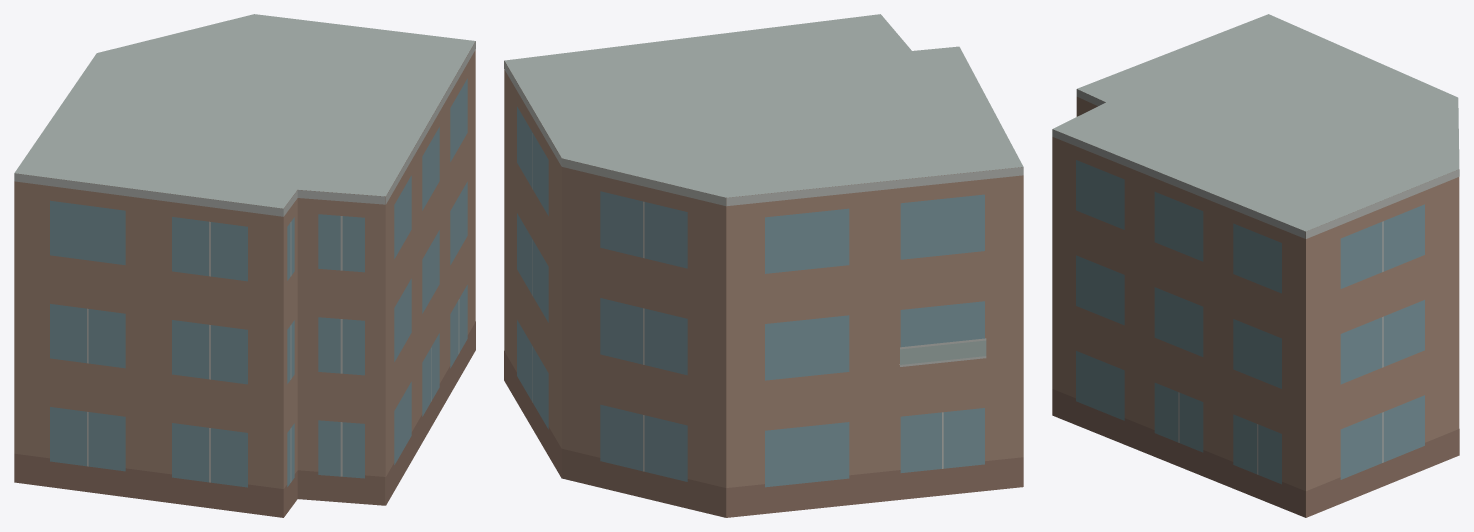
File: survey-upis-32855490.glb
The picture shows the model from 3 angles, left to right: view 1: azimuth 30°, elevation 25°; view 2: azimuth 150°, elevation 25°; view 3: azimuth 270°, elevation 25°; orthographic projection. The views are drawn at different scales.
Parts seen in each view (by area): view 1: survey-upis-32855490.tmp; view 2: survey-upis-32855490.tmp; view 3: survey-upis-32855490.tmp.
Part boxes in pixels (bbox=[...]): survey-upis-32855490.tmp: bbox=[14, 14, 475, 517]; survey-upis-32855490.tmp: bbox=[504, 14, 1023, 517]; survey-upis-32855490.tmp: bbox=[1052, 14, 1459, 517].
Size of the model in its own units: 15 by 9.2 by 11.86.
